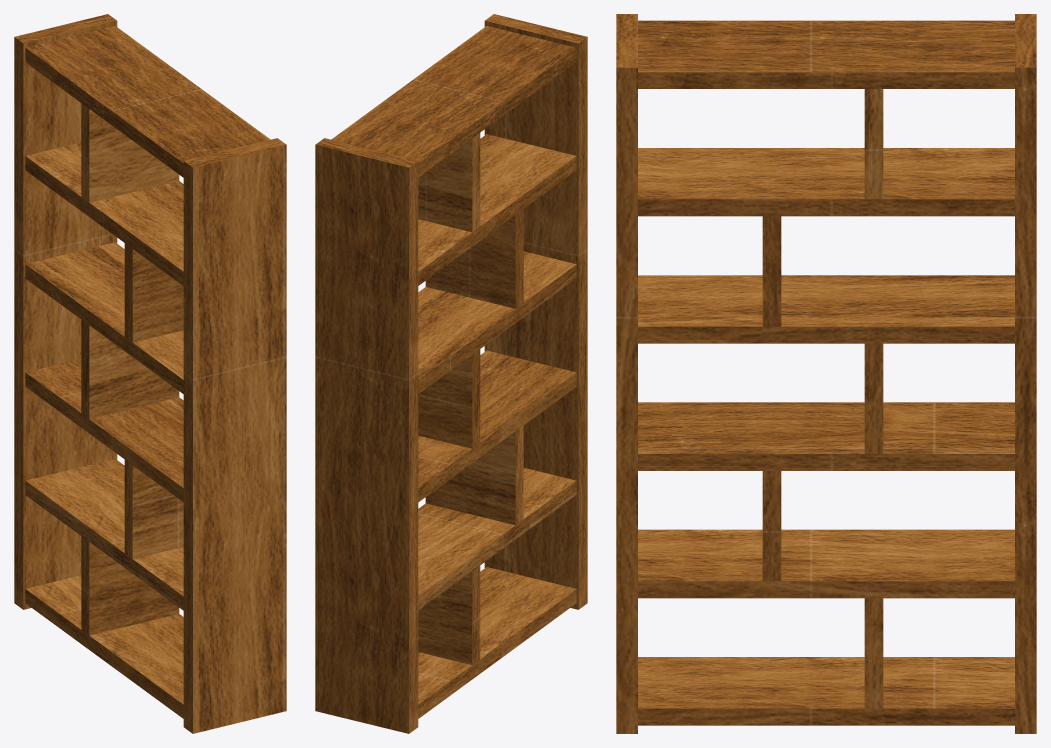
The model's file is cabinet3.fbx.
3 views of the same model, side by side, from view 1: azimuth 30°, elevation 25°; view 2: azimuth 150°, elevation 25°; view 3: azimuth 270°, elevation 25° (orthographic). The views are drawn at different scales.
Parts seen in each view (by area): view 1: pCube815.008; view 2: pCube815.008; view 3: pCube815.008.
Part boxes in pixels (<box>): pCube815.008: <box>14,14,286,733</box>; pCube815.008: <box>315,14,587,733</box>; pCube815.008: <box>616,14,1036,733</box>.
Bounding box in the file's own units: 0.2595 × 1.5 × 0.8565.
1 material, 1 textured.
